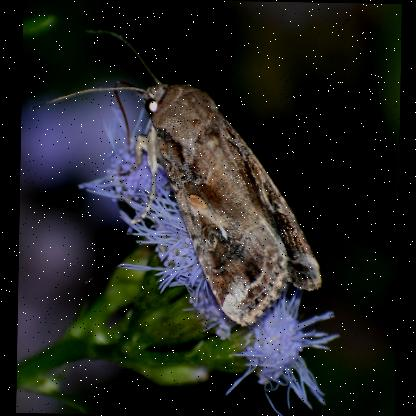Fall Armyworm Moth: (22, 23, 330, 334)
